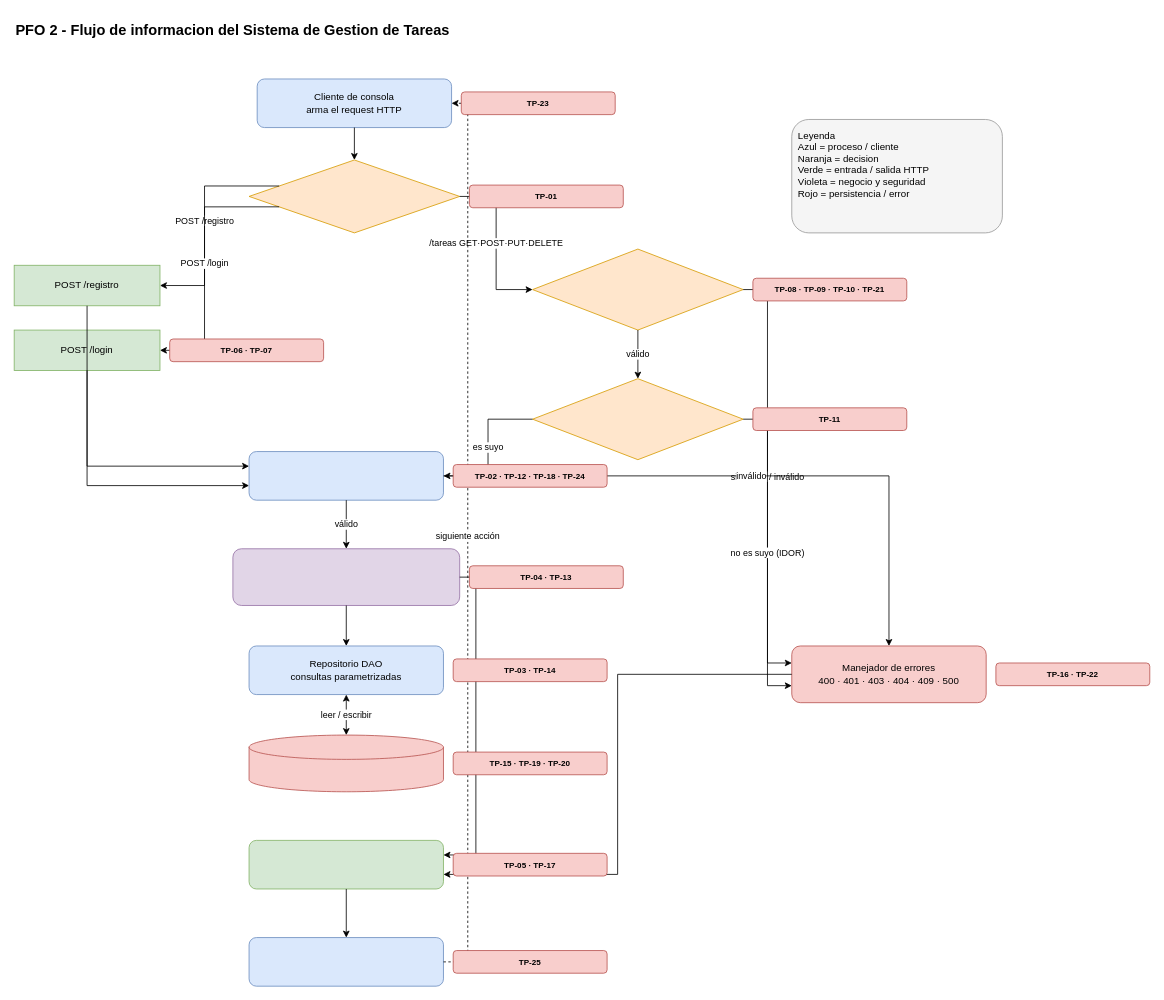
Some shapes in this 1164 by 1000 pixel diagram are drawn without their labels. The shapes that lost their labels are listed below. From the top down, each one's centre as x and y in pixels, then its label:
pixel 354 196: Router Flask ¿ruta y método?
pixel 637 289: Middleware de autenticación ¿token presente y válido?
pixel 637 419: ¿El recurso pertenece al usuario del token?
pixel 345 475: Validación de entrada tipo · formato · requeridos
pixel 346 576: Lógica de negocio y seguridad hashear · verificar · emitir token · CRUD
pixel 345 763: SQLite usuarios · tareas
pixel 345 864: Respuesta JSON + status code
pixel 345 961: Cliente interpreta status y muestra resultado
